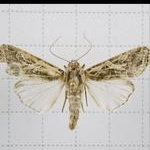Spodoptera litura: (0, 33, 149, 130)
